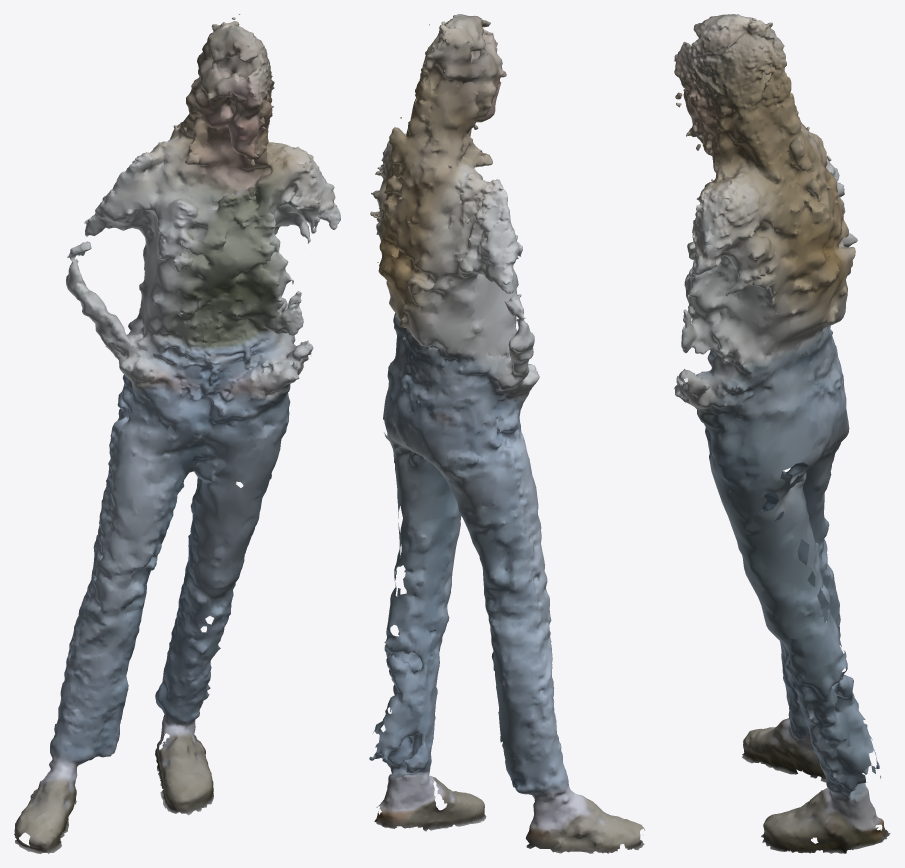
File: blendermesh.glb
3 views of the same model, side by side, from view 1: azimuth 30°, elevation 25°; view 2: azimuth 150°, elevation 25°; view 3: azimuth 270°, elevation 25° (orthographic). The views are drawn at different scales.
Parts seen in each view (by area): view 1: Mesh_0; view 2: Mesh_0; view 3: Mesh_0.
Boxes of the visible parts, box(x1,y1,x2,y2) form: Mesh_0: box(14, 14, 340, 853); Mesh_0: box(369, 14, 644, 853); Mesh_0: box(674, 14, 890, 853).
Size of the model in its own units: 1.14 by 2.98 by 0.6948.
